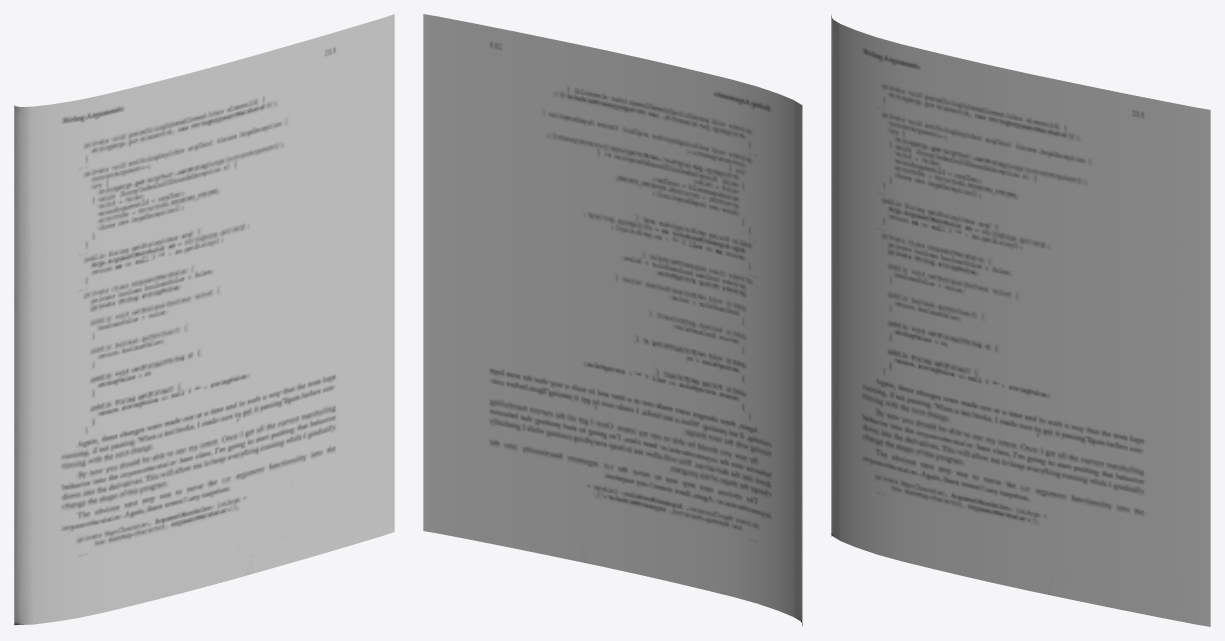
Rendered from MeshBook_8_0_GeomSubset_2.obj.
The picture shows the model from 3 angles, left to right: view 1: azimuth 30°, elevation 25°; view 2: azimuth 150°, elevation 25°; view 3: azimuth 330°, elevation 25°; orthographic projection.
Visible parts, largest first — view 1: MeshBook_8_0_GeomSubset_2; view 2: MeshBook_8_0_GeomSubset_2; view 3: MeshBook_8_0_GeomSubset_2.
Boxes of the visible parts, bbox=[...] form: MeshBook_8_0_GeomSubset_2: bbox=[14, 14, 394, 625]; MeshBook_8_0_GeomSubset_2: bbox=[423, 14, 802, 626]; MeshBook_8_0_GeomSubset_2: bbox=[831, 14, 1210, 626].
Size of the model in its own units: 0.1938 by 0.2552 by 0.00944.
